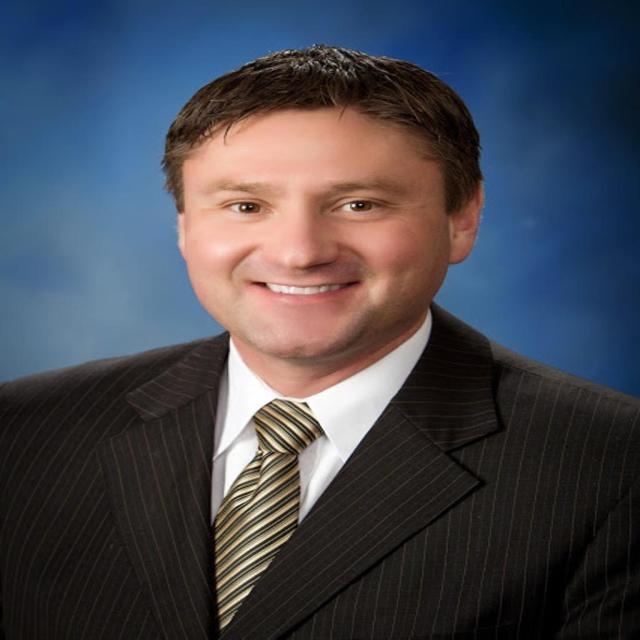Face: (173, 97, 476, 371)
